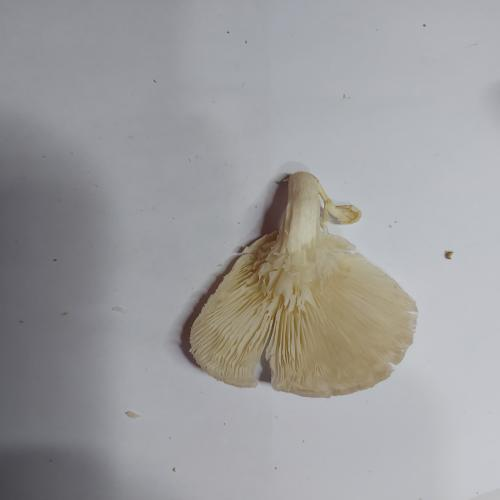Oyster Mushroom: (187, 170, 419, 398)
